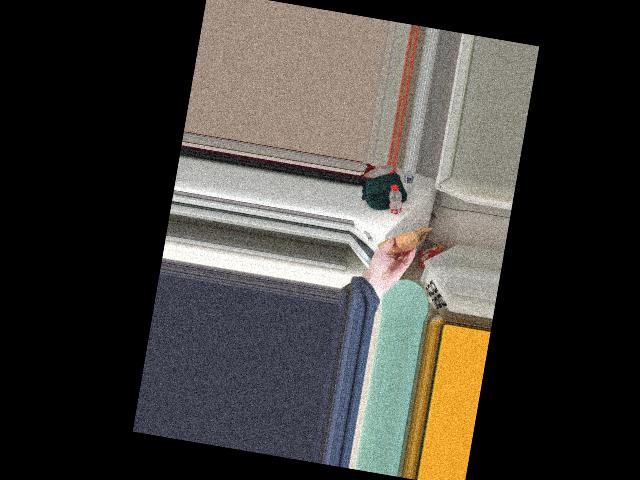sweet_potato: (381, 226, 418, 262)
